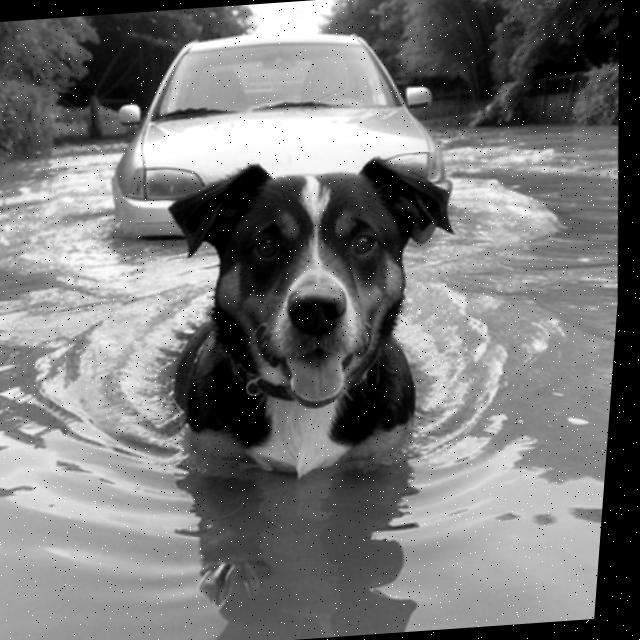dog: (123, 148, 491, 499)
